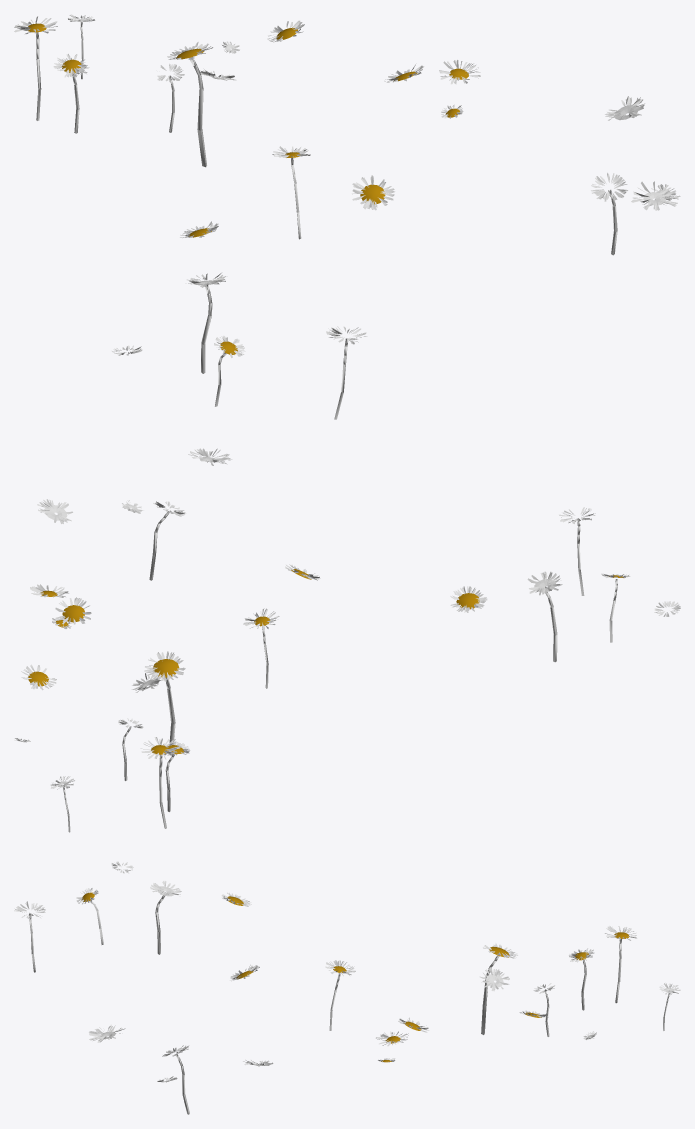
Rendered from flower_daisy.glb.
3 views of the same model, one above another, from view 1: azimuth 30°, elevation 25°; view 2: azimuth 150°, elevation 25°; view 3: azimuth 270°, elevation 25° (orthographic). The views are drawn at different scales.
Visible parts, largest first — view 1: flower_daisy.glb; view 2: flower_daisy.glb; view 3: flower_daisy.glb.
Boxes of the visible parts, x1,y1,x2,y2 form: flower_daisy.glb: [14, 14, 680, 419]; flower_daisy.glb: [14, 448, 680, 832]; flower_daisy.glb: [14, 861, 680, 1114].
Size of the model in its own units: 0.4928 by 0.0882 by 0.6016.
